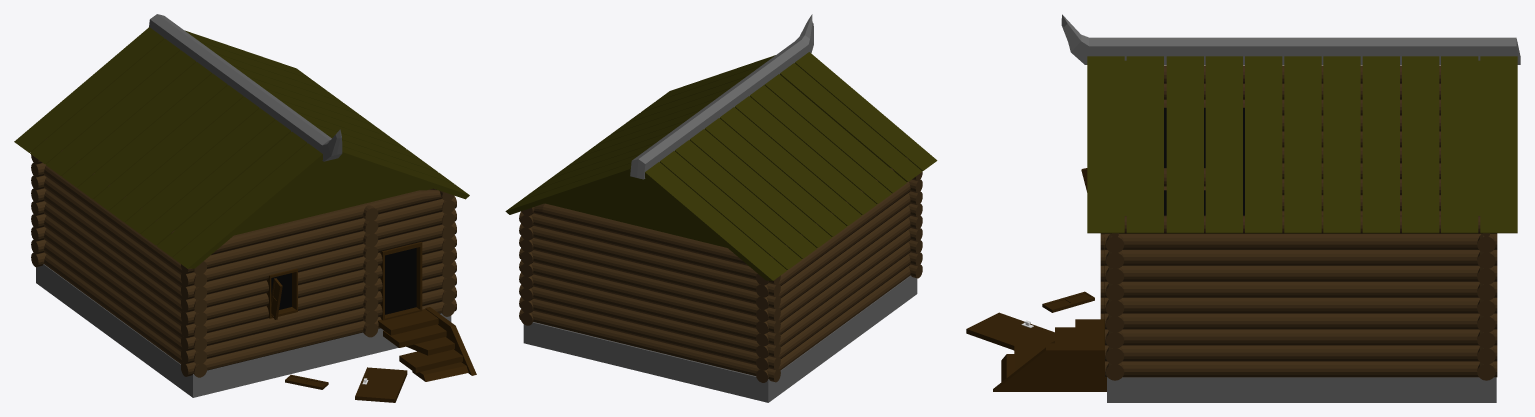
Rendered from Дом 1.fbx.
The picture shows the model from 3 angles, left to right: view 1: azimuth 30°, elevation 25°; view 2: azimuth 150°, elevation 25°; view 3: azimuth 270°, elevation 25°; orthographic projection. The views are drawn at different scales.
Parts seen in each view (by area): view 1: Cube.003, Стена, Стена.001, Cube.007, Фундамент, Cube.004, Cube.006, Ступеньки, Cube.008, Стена.002, Стена.003, Стена.004 (+4 smaller); view 2: Cube.003, Стена.004, Стена.001, Фундамент, Cube.007, Cube.005, Cube.006, Стена.003, Стена; view 3: Cube.003, Стена.003, Cube.007, Фундамент, Cube.006, Cube.002, Стена.004, Стена, Стена.001, Ступеньки, Дверь, Cube.008 (+2 smaller).
Part boxes in pixels (x1=…): Cube.003: x1=14, y1=27, x2=437, y2=245; Стена: x1=181, y1=189, x2=456, y2=376; Стена.001: x1=44, y1=139, x2=207, y2=377; Cube.007: x1=157, y1=131, x2=469, y2=268; Фундамент: x1=36, y1=264, x2=451, y2=397; Cube.004: x1=234, y1=157, x2=432, y2=235; Cube.006: x1=149, y1=14, x2=342, y2=161; Ступеньки: x1=378, y1=309, x2=468, y2=381; Cube.008: x1=271, y1=248, x2=416, y2=314; Стена.002: x1=363, y1=205, x2=378, y2=337; Стена.003: x1=430, y1=188, x2=455, y2=316; Стена.004: x1=31, y1=154, x2=46, y2=267; Cube.003: x1=505, y1=74, x2=906, y2=280; Стена.004: x1=519, y1=203, x2=780, y2=382; Стена.001: x1=756, y1=157, x2=910, y2=382; Фундамент: x1=523, y1=275, x2=917, y2=402; Cube.007: x1=641, y1=52, x2=937, y2=181; Cube.005: x1=544, y1=175, x2=726, y2=247; Cube.006: x1=630, y1=14, x2=813, y2=179; Стена.003: x1=520, y1=207, x2=534, y2=325; Стена: x1=908, y1=171, x2=922, y2=278; Cube.003: x1=1166, y1=56, x2=1517, y2=233; Стена.003: x1=1105, y1=215, x2=1497, y2=377; Cube.007: x1=1087, y1=56, x2=1163, y2=233; Фундамент: x1=1107, y1=377, x2=1496, y2=402; Cube.006: x1=1061, y1=14, x2=1520, y2=64; Cube.002: x1=993, y1=347, x2=1106, y2=391; Стена.004: x1=1477, y1=233, x2=1495, y2=380; Стена: x1=1105, y1=233, x2=1124, y2=380; Стена.001: x1=1164, y1=65, x2=1440, y2=215; Ступеньки: x1=1001, y1=319, x2=1104, y2=381; Дверь: x1=966, y1=312, x2=1054, y2=350; Cube.008: x1=1164, y1=108, x2=1244, y2=215.
Size of the model in its own units: 438 by 373 by 599.
